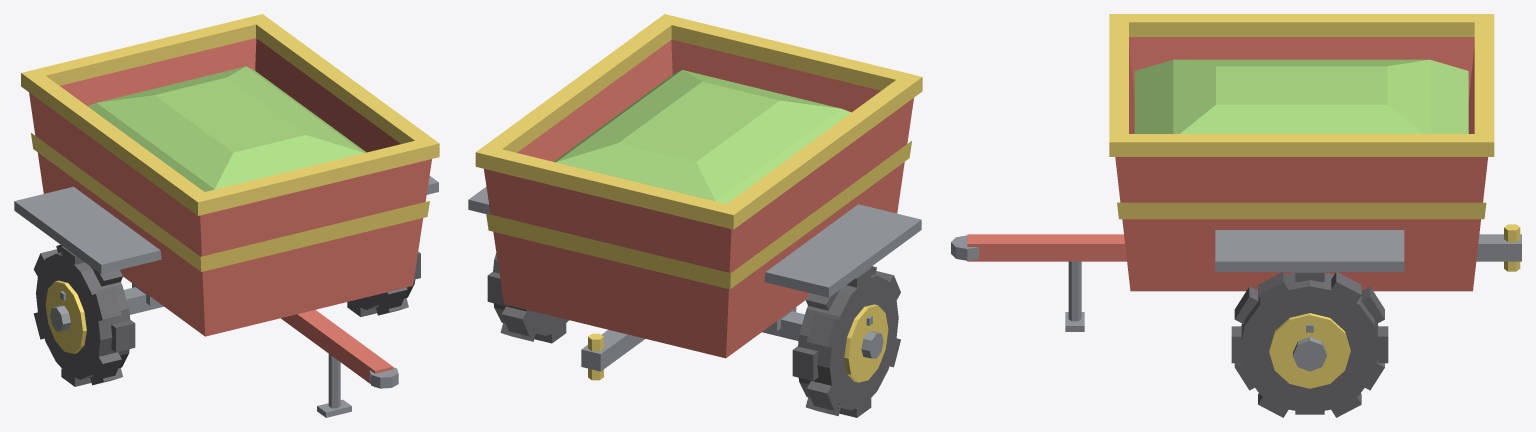
The model's file is tipcart.glb.
3 renders of one model, left to right at view 1: azimuth 30°, elevation 25°; view 2: azimuth 150°, elevation 25°; view 3: azimuth 270°, elevation 25°, orthographic. The views are drawn at different scales.
Parts seen in each view (by area): view 1: hopper, hopper_lip, grain, fender_R, hopper_band, tyre_R, tread_R, tongue, rim_R, tread_L, stand, axle (+2 smaller); view 2: hopper, hopper_lip, grain, fender_R, hopper_band, tyre_R, tread_R, rim_R, tread_L, tow_bar, tyre_L, axle (+3 smaller); view 3: hopper, grain, hopper_lip, tyre_L, fender_L, hopper_band, tread_L, tongue, rim_L, tow_bar, hubcap_L, stand (+1 smaller).
Part boxes in pixels (x1,y1,x2,y2): hopper: [29, 38, 431, 336]; hopper_lip: [21, 14, 439, 215]; grain: [87, 66, 366, 191]; fender_R: [14, 186, 161, 274]; hopper_band: [31, 133, 429, 271]; tyre_R: [36, 252, 130, 379]; tread_R: [33, 244, 135, 386]; tongue: [281, 310, 393, 387]; rim_R: [45, 280, 86, 353]; tread_L: [347, 252, 420, 316]; stand: [328, 354, 340, 408]; axle: [124, 287, 163, 314]; hopper: [484, 39, 913, 358]; hopper_lip: [475, 14, 922, 229]; grain: [554, 70, 851, 203]; fender_R: [764, 204, 921, 297]; hopper_band: [486, 141, 911, 289]; tyre_R: [798, 274, 898, 410]; tread_R: [792, 266, 900, 417]; rim_R: [844, 304, 888, 382]; tread_L: [487, 272, 566, 343]; tow_bar: [581, 330, 645, 371]; tyre_L: [493, 253, 568, 335]; axle: [762, 311, 804, 340]; hopper: [1115, 37, 1487, 291]; grain: [1134, 59, 1468, 133]; hopper_lip: [1109, 14, 1494, 156]; tyre_L: [1240, 272, 1379, 413]; fender_L: [1215, 230, 1404, 271]; hopper_band: [1117, 202, 1486, 219]; tread_L: [1231, 272, 1388, 417]; tongue: [967, 234, 1126, 261]; rim_L: [1269, 313, 1350, 388]; tow_bar: [1476, 234, 1521, 261]; hubcap_L: [1292, 337, 1326, 371]; stand: [1068, 261, 1081, 321].
Size of the model in its own units: 1.31 by 0.875 by 1.75.
